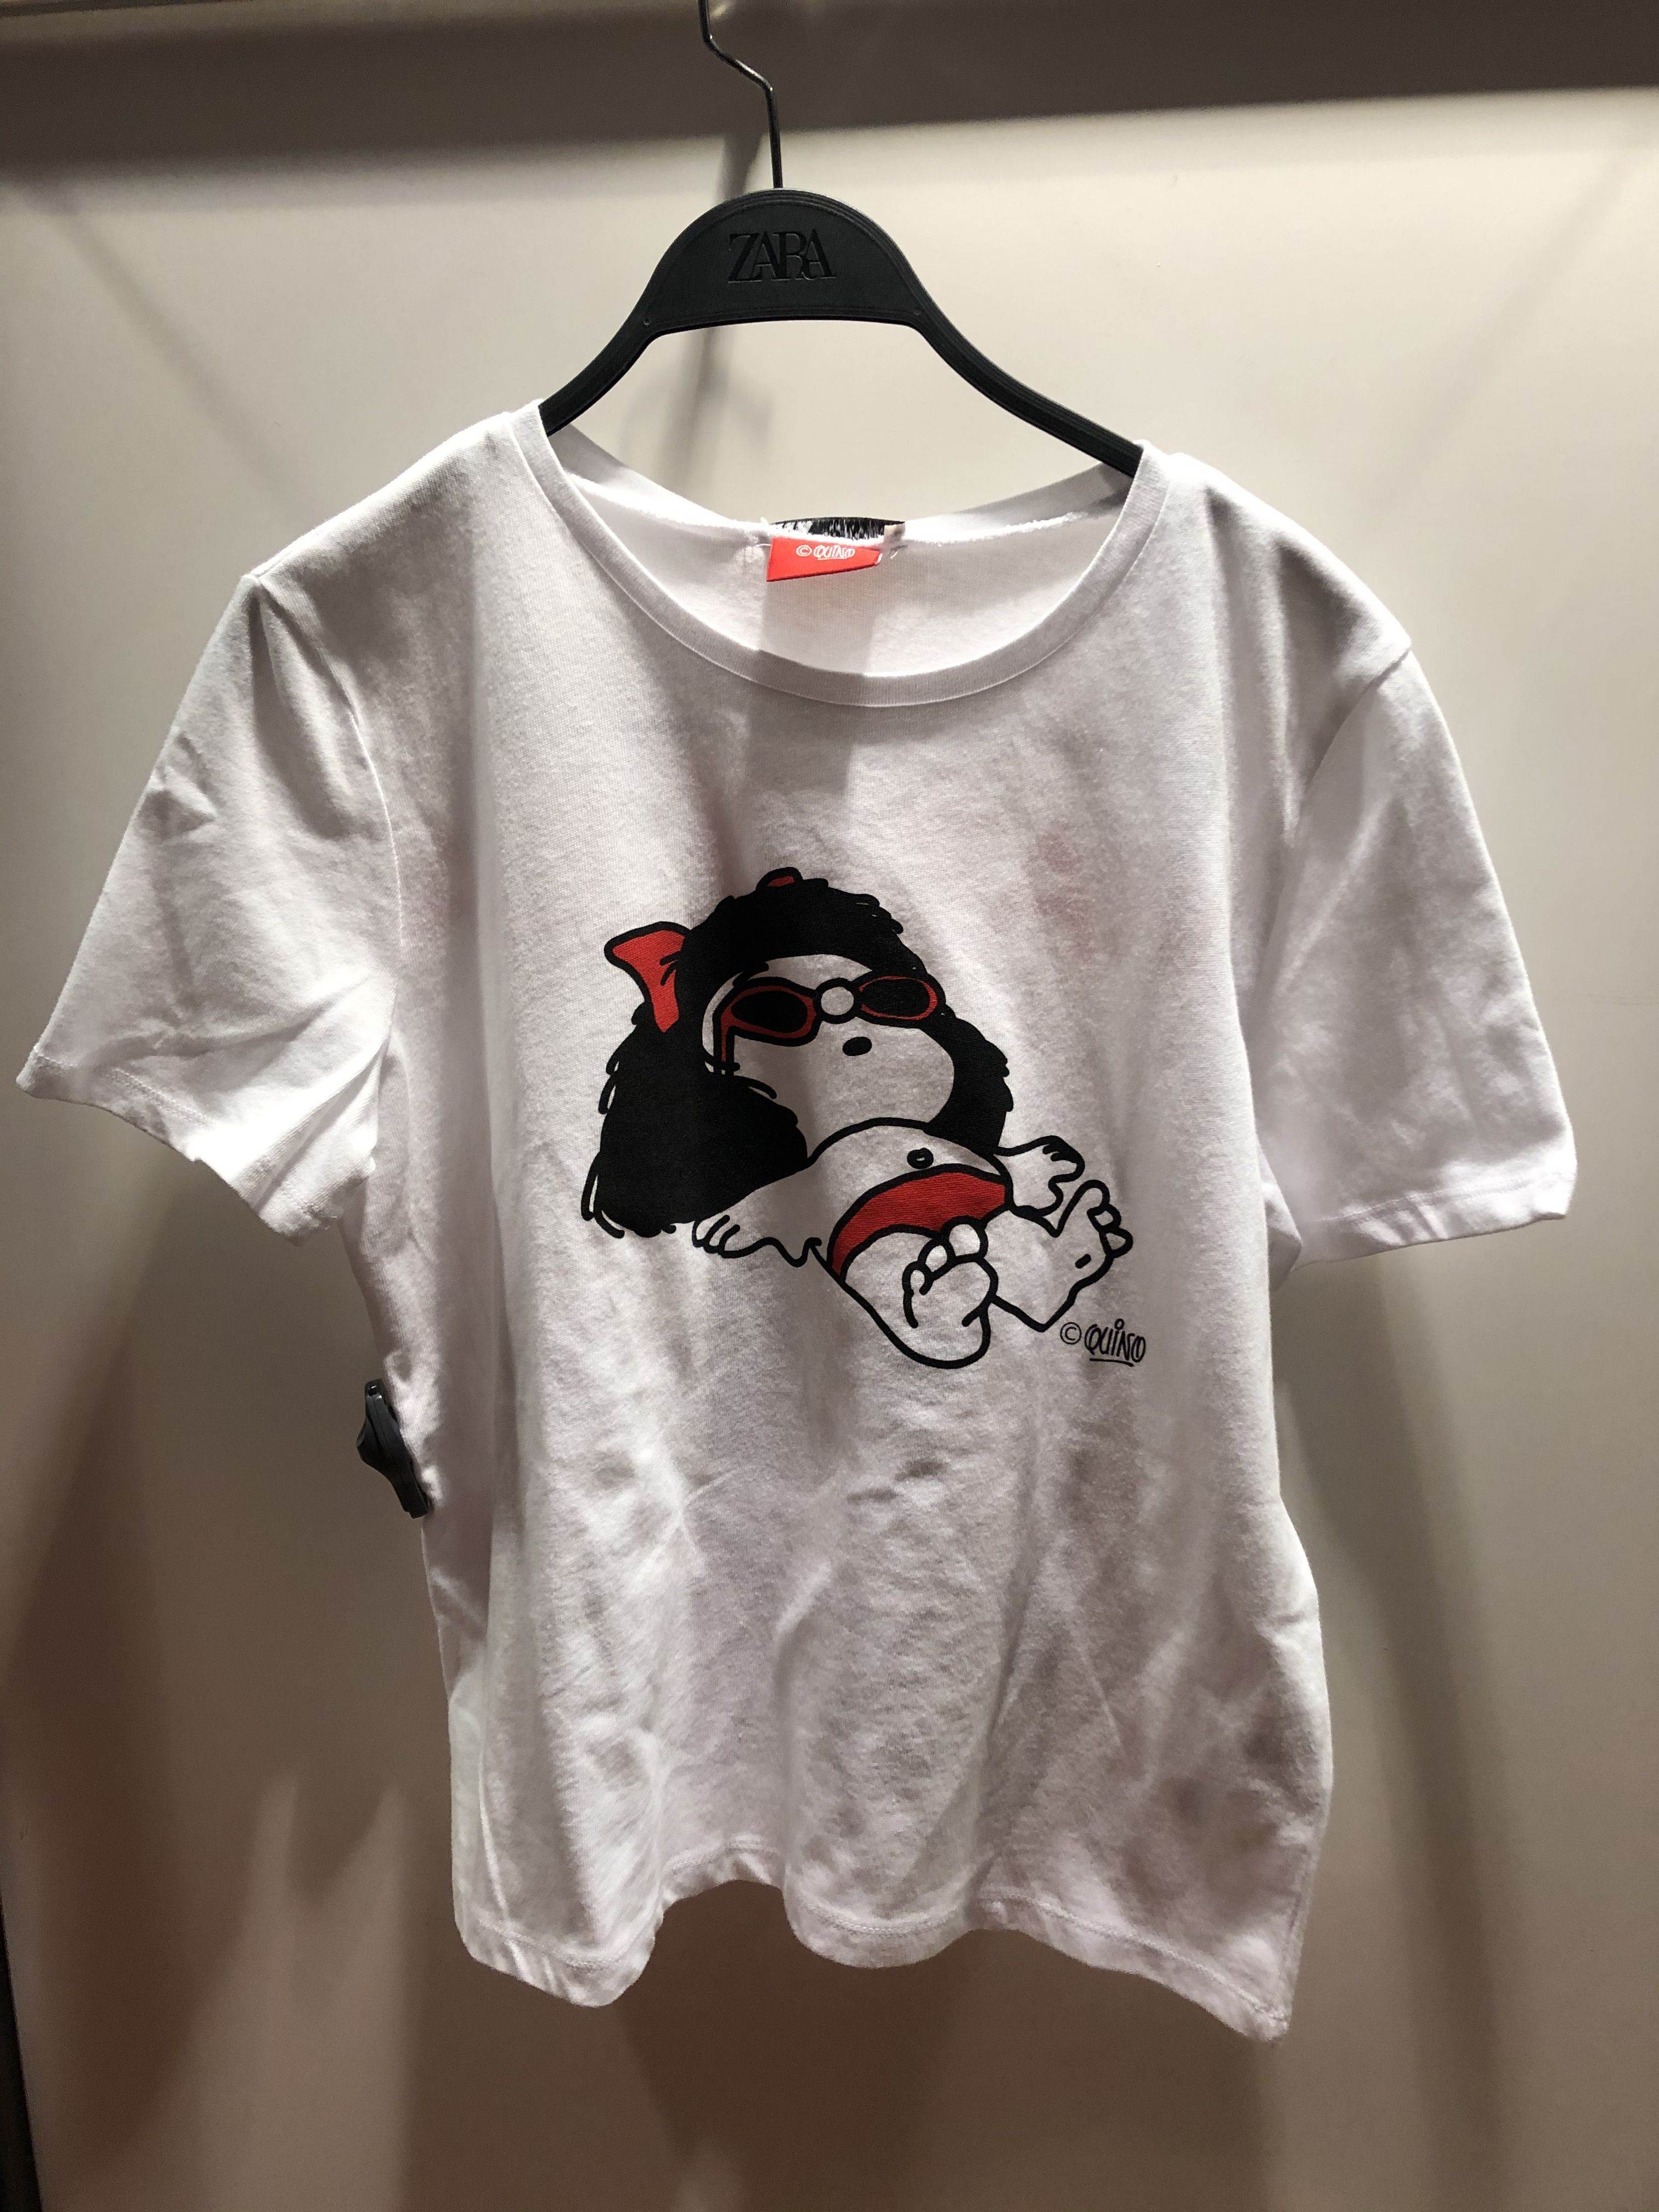clothes: (7, 392, 1598, 2026)
